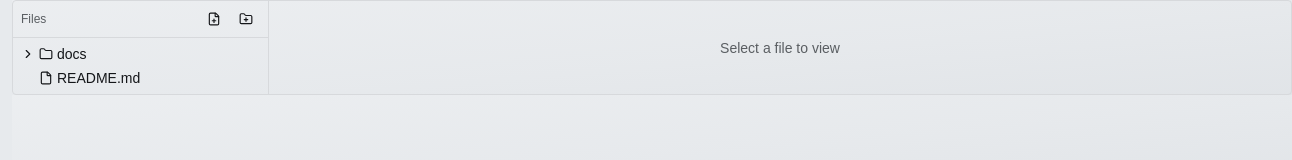
Scenario: opens a markdown file as a preview and toggles to source
This screenshot has width=1292, height=160.
Expected: the text "README.md" is shown, [57, 68, 140, 88]
Click the button "README.md".
click(116, 78)  # box [13, 66, 220, 90]
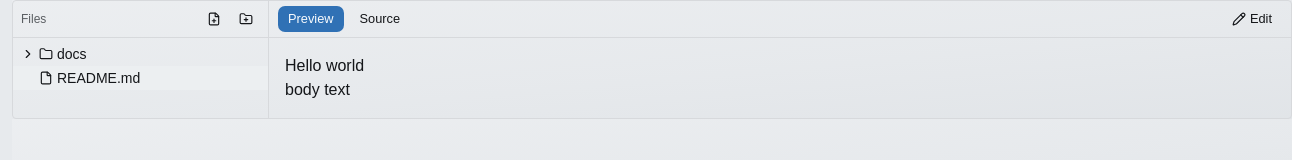
Expected: the heading reads "Hello world", [285, 57, 364, 74]
Toggle to Source shows the raw markdown text.
Click the button "Source".
click(380, 19)  # box [348, 5, 411, 33]
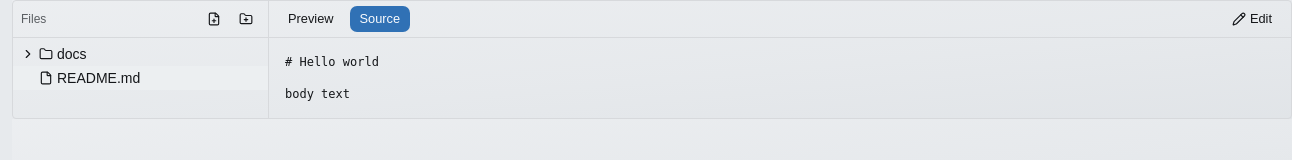
Expected: the text with test id "md-source" shows "# Hello world", [285, 55, 379, 101]
